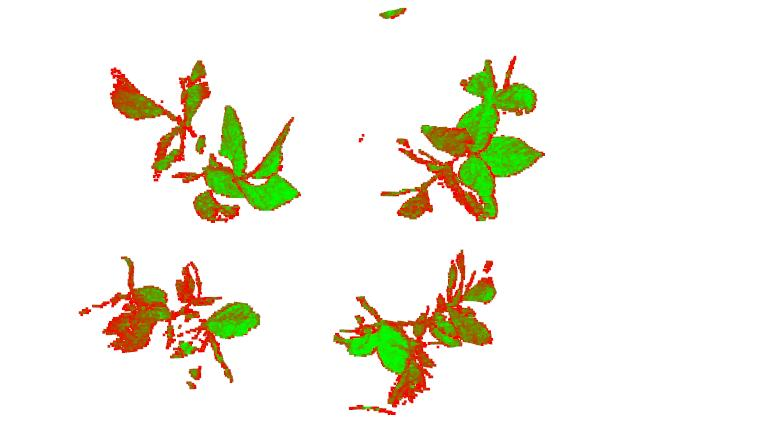mungbean: (100, 59, 303, 223), (382, 54, 548, 222), (333, 250, 501, 407), (78, 255, 261, 389)
